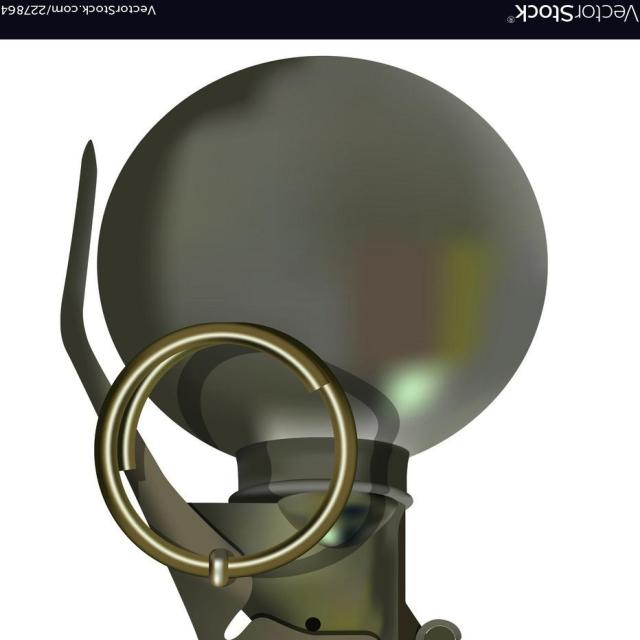grenade: (59, 57, 550, 640)
